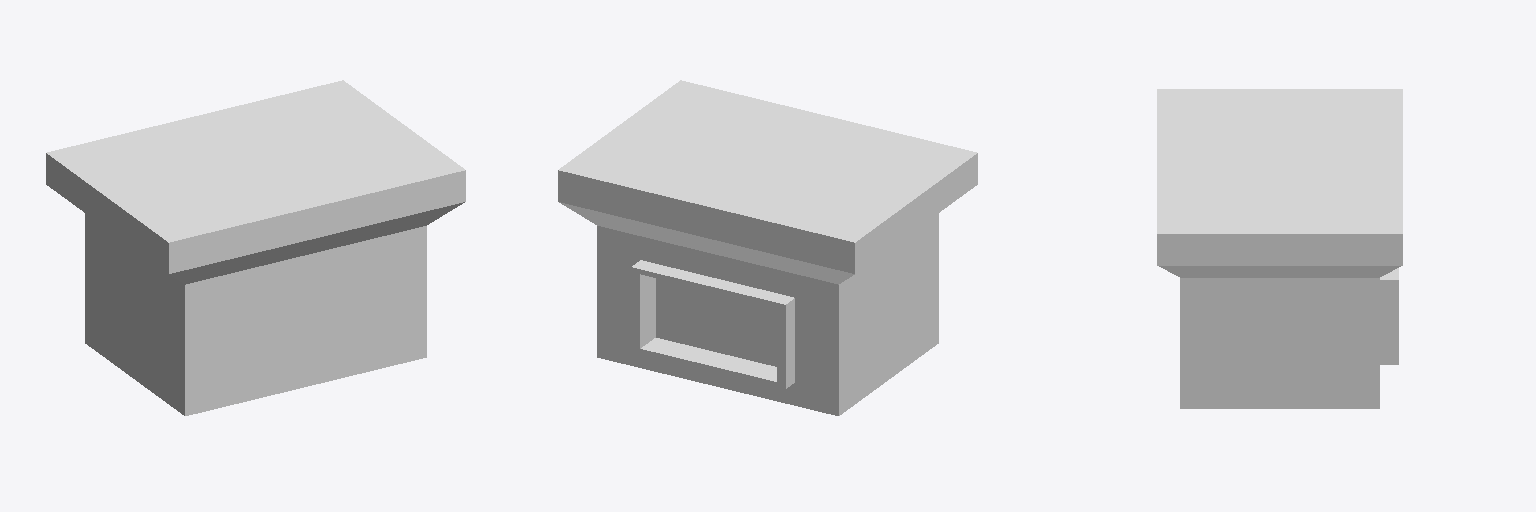
The model's file is stand.obj.
The picture shows the model from 3 angles: view 1: azimuth 30°, elevation 25°; view 2: azimuth 150°, elevation 25°; view 3: azimuth 270°, elevation 25°; orthographic projection.
Visible parts, largest first — view 1: Default1; view 2: Default1; view 3: Default1.
Boxes of the visible parts, x1=… form: Default1: x1=46, y1=80, x2=465, y2=415; Default1: x1=558, y1=80, x2=977, y2=415; Default1: x1=1157, y1=89, x2=1402, y2=408.
Bounding box in the file's own units: 4.32 × 2.63 × 3.09.